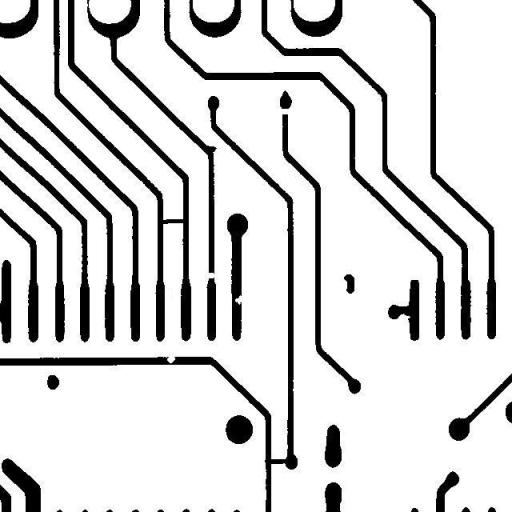copper: (336, 266, 362, 301)
mousebite: (227, 287, 251, 312), (390, 306, 418, 326), (160, 348, 182, 370)
open: (270, 101, 298, 122), (197, 264, 222, 286)
short: (150, 211, 192, 231), (257, 450, 294, 472)
spur: (196, 138, 224, 159)
